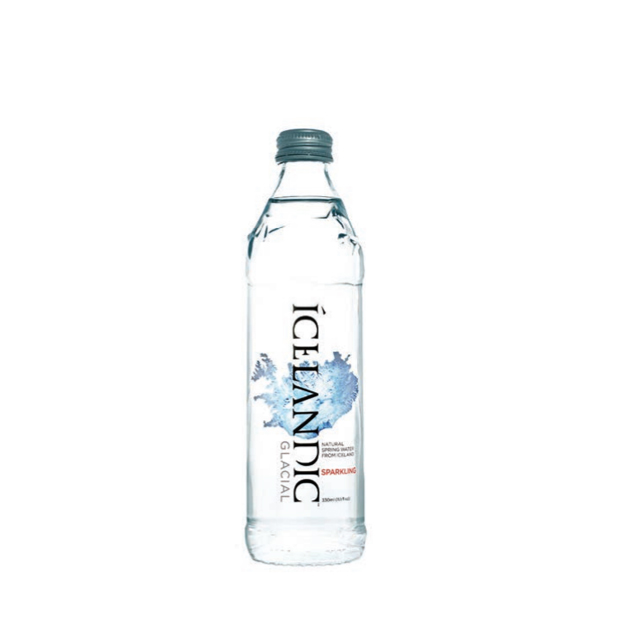glass_bottle: (227, 124, 383, 576)
